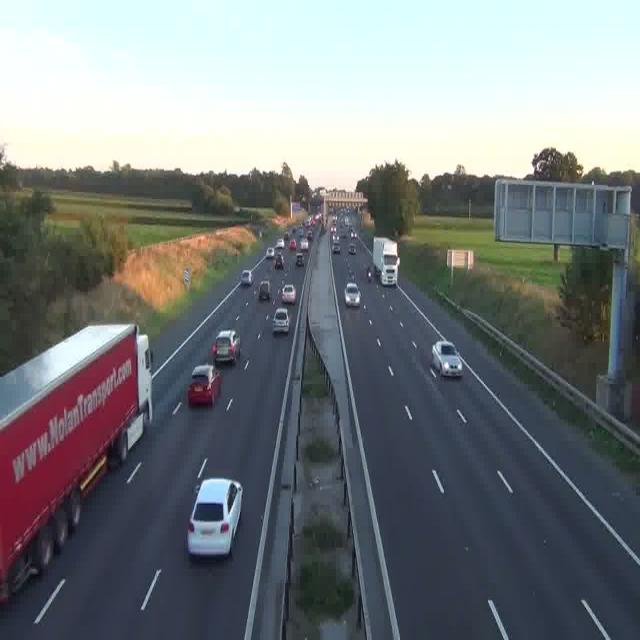car: (188, 478, 242, 558), (188, 364, 220, 406), (433, 340, 463, 377), (212, 330, 240, 365), (272, 306, 290, 333), (345, 284, 361, 308), (280, 283, 296, 305), (260, 281, 272, 300), (273, 250, 285, 268), (240, 270, 252, 286), (293, 252, 303, 266), (265, 245, 275, 258), (332, 241, 340, 254), (348, 243, 356, 254), (332, 232, 338, 244), (352, 229, 358, 239)
truck: (0, 324, 154, 602), (372, 238, 398, 286)
